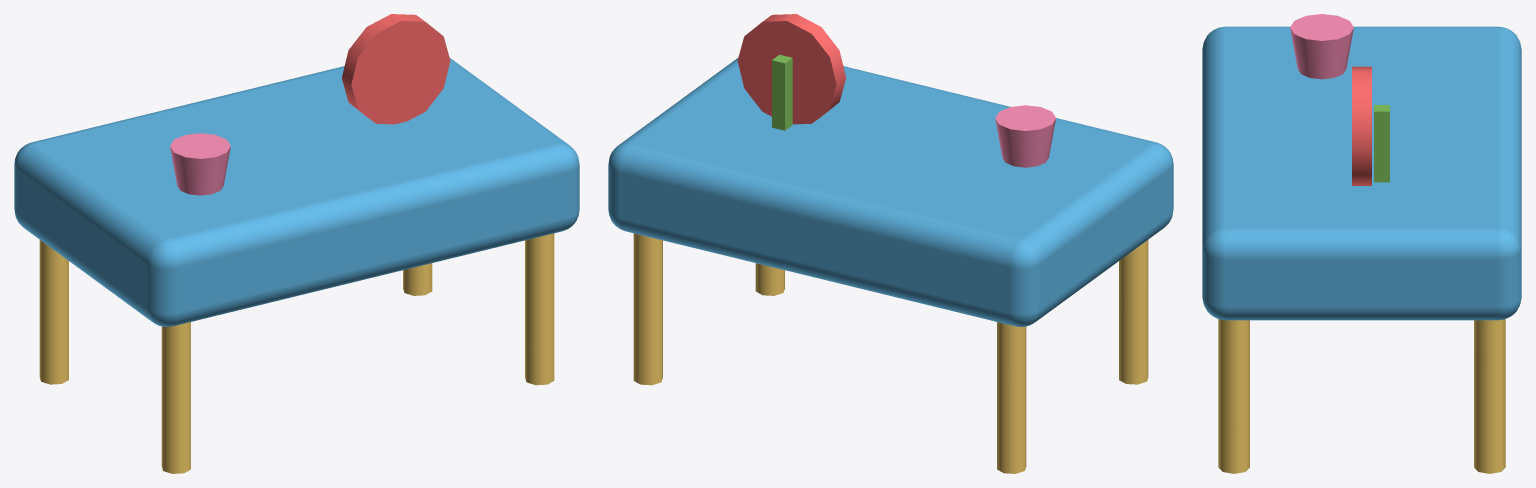
The model's file is ksandpit-water.glb.
The picture shows the model from 3 angles, left to right: view 1: azimuth 30°, elevation 25°; view 2: azimuth 150°, elevation 25°; view 3: azimuth 270°, elevation 25°; orthographic projection. The views are drawn at different scales.
Size of the model in its own units: 1.3 by 0.975 by 0.8.
